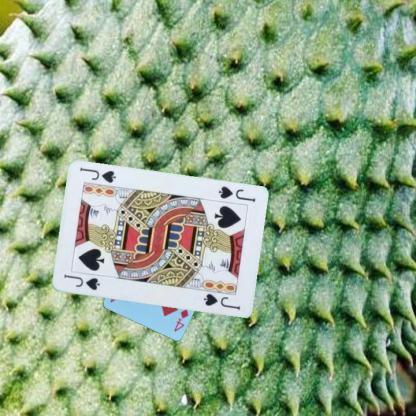4d: (171, 306, 190, 333)
Js: (61, 271, 102, 292), (214, 184, 257, 204)
